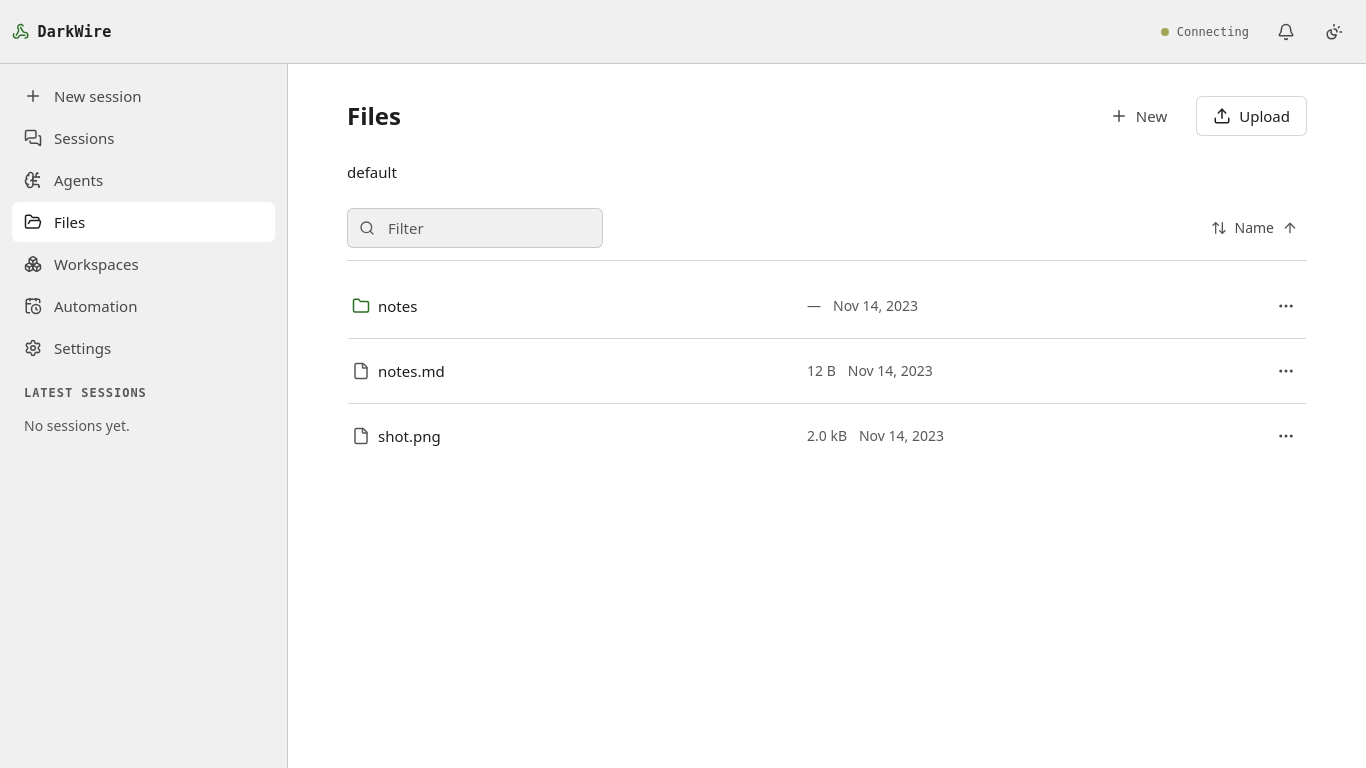
it: the file browser › navigates into a directory, and back out through the breadcrumb
Click the link "notes".
click(385, 306)  # box [352, 296, 417, 316]
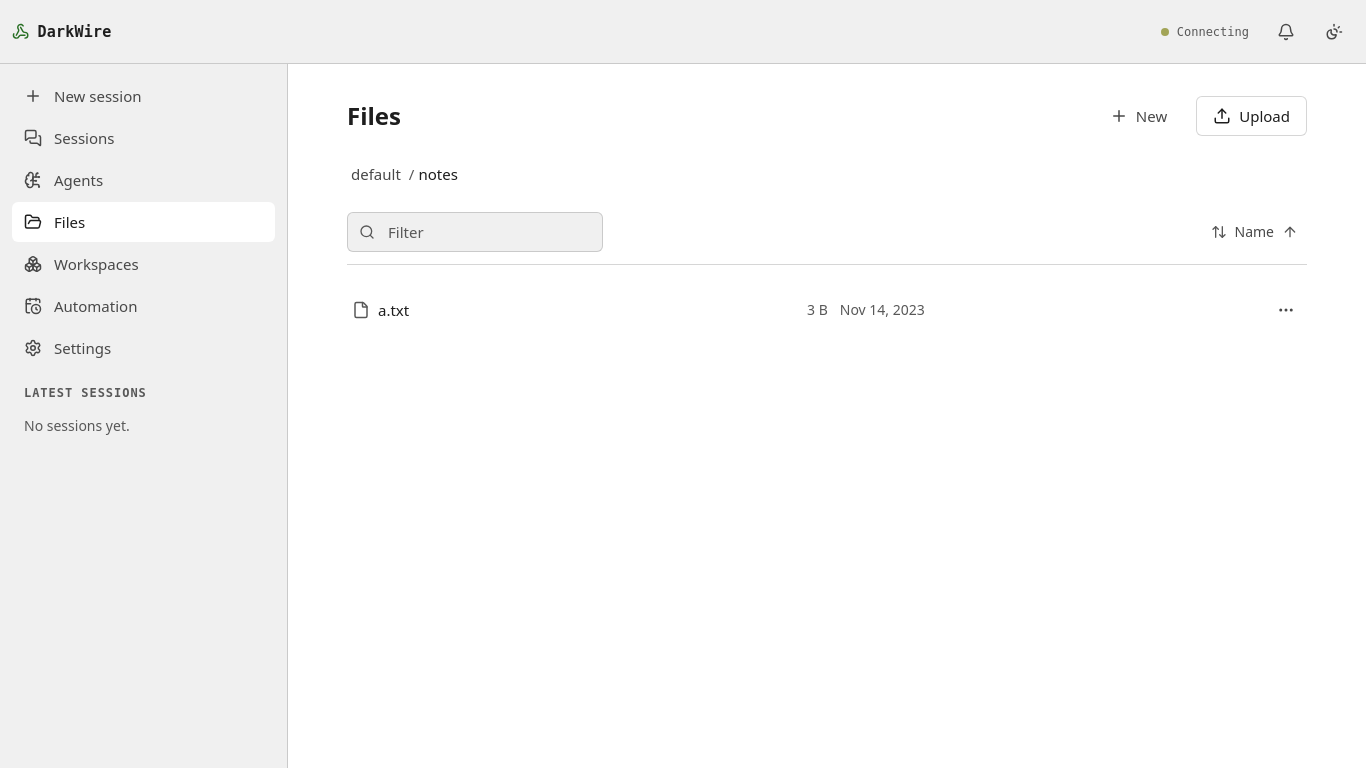
Check: the link "a.txt" is shown, box [352, 300, 409, 320]
Click the link "default".
click(376, 174)  # box [347, 160, 405, 188]
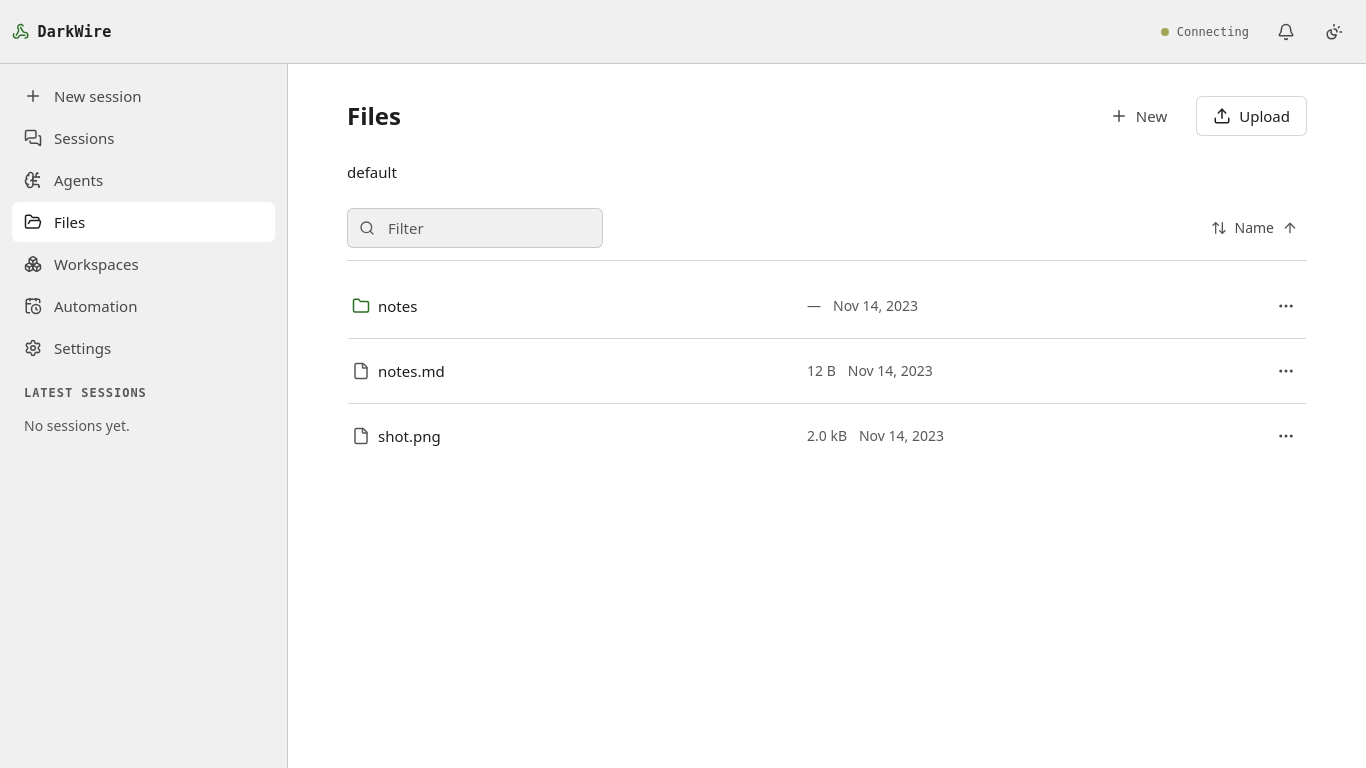
Check: the link "notes.md" is shown, box [352, 361, 445, 381]
